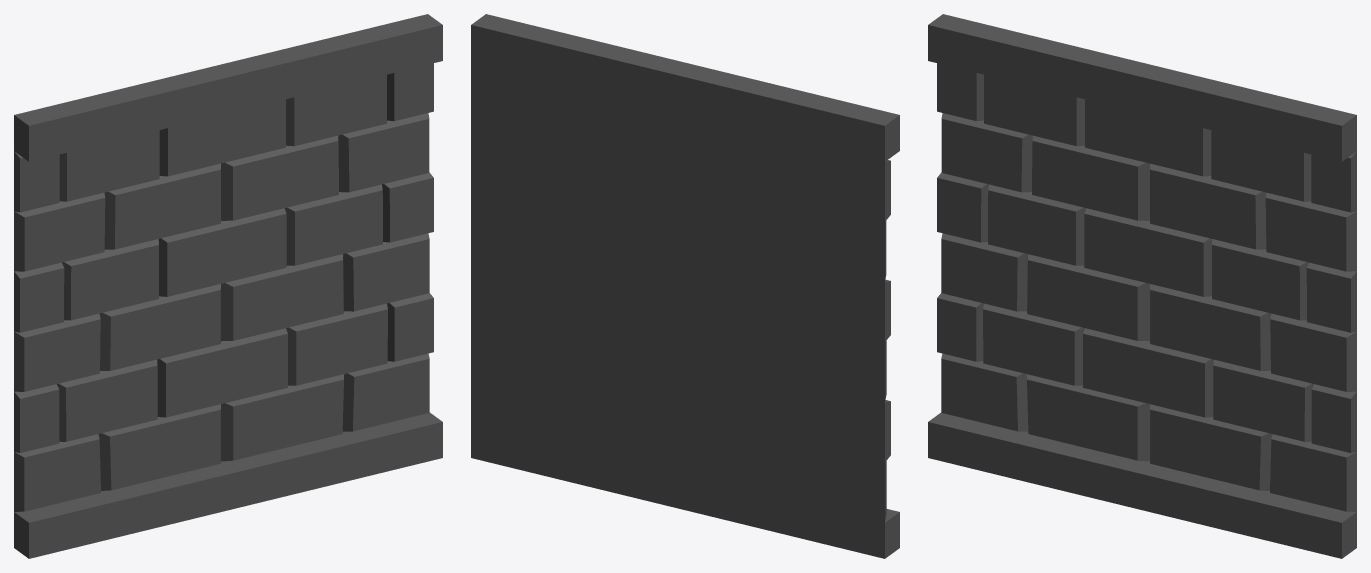
Rendered from Wall_4x4_1.fbx.
3 renders of one model, left to right at view 1: azimuth 30°, elevation 25°; view 2: azimuth 150°, elevation 25°; view 3: azimuth 330°, elevation 25°, orthographic.
Visible parts, largest first — view 1: Wall 1; view 2: Wall 1; view 3: Wall 1.
Part boxes in pixels (x1,y1,x2,y2): Wall 1: (14, 14, 442, 558); Wall 1: (471, 14, 899, 558); Wall 1: (928, 14, 1356, 558).
Size of the model in its own units: 400 by 400 by 25.
